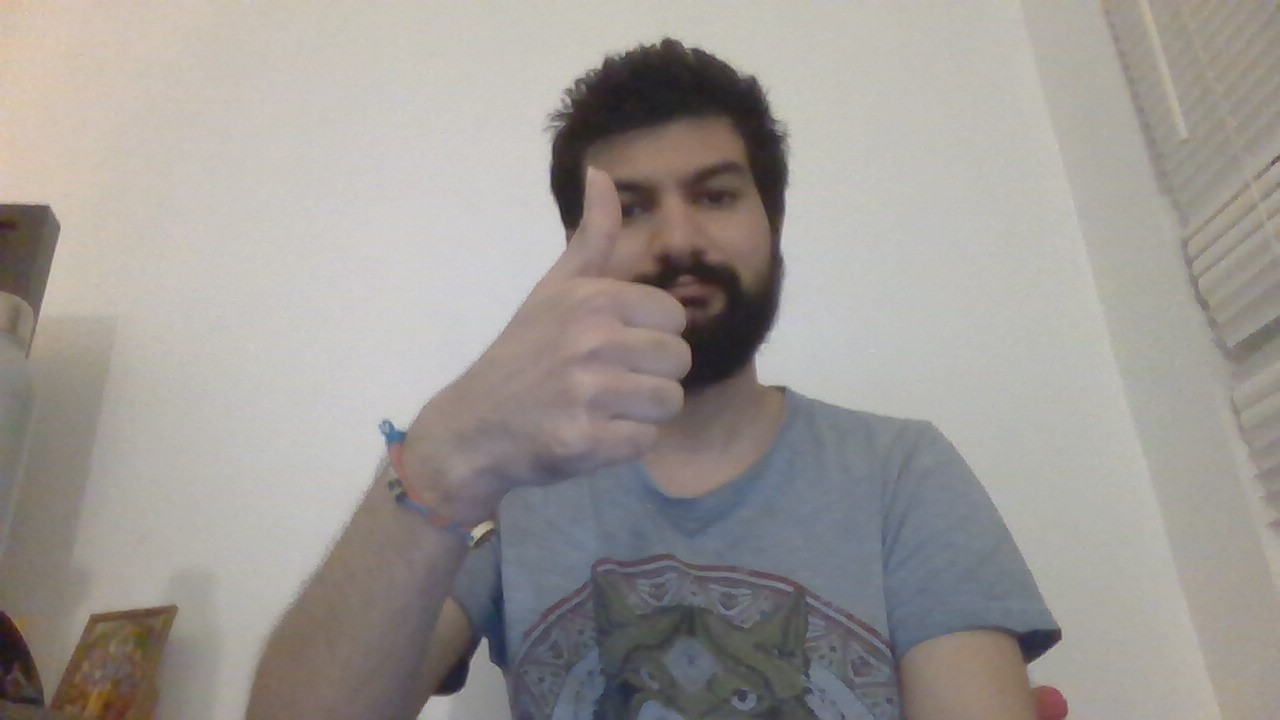up: (497, 161, 694, 482)
